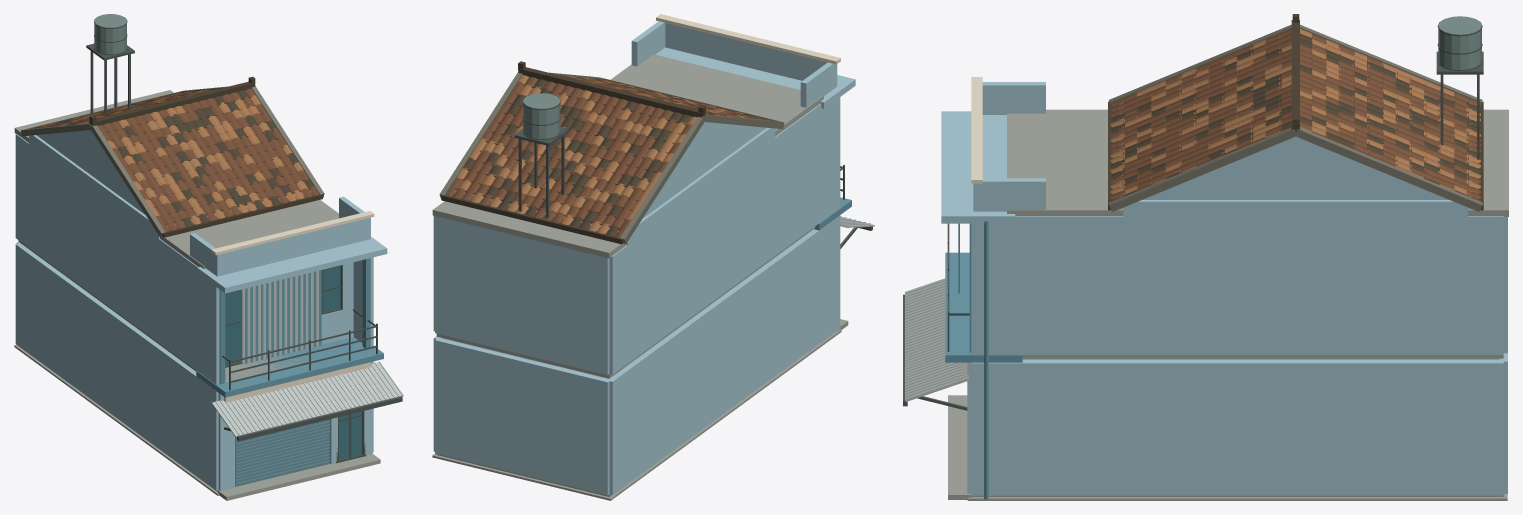
The model's file is urban-shophouse.glb.
3 renders of one model, left to right at view 1: azimuth 30°, elevation 25°; view 2: azimuth 150°, elevation 25°; view 3: azimuth 270°, elevation 25°, orthographic. The views are drawn at different scales.
Parts seen in each view (by area): view 1: walls__urban_blue, roof_tiles__old_tile.002, shop_awning__awning_sheet, roof_tiles__old_tile_light.002, roof_parapet__urban_blue, roof__concrete.001, roof_tiles__old_tile_dark.002, balcony__urban_blue_trim, striped_blind__awning_sheet, striped_blind__urban_blue_trim, balcony_canopy__urban_blue, shop_shutter__shutter_blue (+19 smaller); view 2: walls__urban_blue, roof_tiles__old_tile.002, roof__concrete.001, roof_tiles__old_tile_light.002, roof_parapet__urban_blue, roof_tiles__old_tile_dark.002, gable_walls__urban_blue, roof_trim__weathered_wood.002, balcony_canopy__urban_blue, foundation__concrete.001, roof__old_tile_dark.002, roof_ridge__old_tile_dark.002 (+5 smaller); view 3: walls__urban_blue, roof_tiles__old_tile.002, roof__concrete.001, roof_tiles__old_tile_light.002, gable_walls__urban_blue, roof_tiles__old_tile_dark.002, roof_trim__weathered_wood.002, balcony_canopy__urban_blue, shop_awning__awning_sheet, roof_parapet__urban_blue, roof__old_tile_dark.002, balcony__urban_blue_trim (+9 smaller).
Boxes of the visible parts, x1=… form: walls__urban_blue: x1=15, y1=134, x2=373, y2=491; roof_tiles__old_tile.002: x1=37, y1=88, x2=319, y2=231; shop_awning__awning_sheet: x1=211, y1=361, x2=403, y2=437; roof_tiles__old_tile_light.002: x1=41, y1=89, x2=309, y2=224; roof_parapet__urban_blue: x1=190, y1=196, x2=370, y2=276; roof__concrete.001: x1=14, y1=90, x2=338, y2=268; roof_tiles__old_tile_dark.002: x1=34, y1=90, x2=313, y2=226; balcony__urban_blue_trim: x1=196, y1=337, x2=383, y2=397; striped_blind__awning_sheet: x1=241, y1=270, x2=318, y2=364; striped_blind__urban_blue_trim: x1=245, y1=270, x2=321, y2=363; balcony_canopy__urban_blue: x1=197, y1=237, x2=387, y2=293; shop_shutter__shutter_blue: x1=235, y1=419, x2=329, y2=486; walls__urban_blue: x1=433, y1=97, x2=840, y2=495; roof_tiles__old_tile.002: x1=445, y1=75, x2=769, y2=237; roof__concrete.001: x1=432, y1=54, x2=823, y2=258; roof_tiles__old_tile_light.002: x1=456, y1=75, x2=747, y2=233; roof_parapet__urban_blue: x1=631, y1=21, x2=837, y2=107; roof_tiles__old_tile_dark.002: x1=462, y1=76, x2=751, y2=235; gable_walls__urban_blue: x1=643, y1=122, x2=766, y2=217; roof_trim__weathered_wood.002: x1=439, y1=72, x2=784, y2=243; balcony_canopy__urban_blue: x1=656, y1=47, x2=855, y2=108; foundation__concrete.001: x1=432, y1=329, x2=841, y2=500; roof__old_tile_dark.002: x1=453, y1=77, x2=691, y2=235; roof_ridge__old_tile_dark.002: x1=518, y1=61, x2=705, y2=117; walls__urban_blue: x1=967, y1=103, x2=1507, y2=495; roof_tiles__old_tile.002: x1=1110, y1=29, x2=1480, y2=201; roof__concrete.001: x1=1007, y1=109, x2=1508, y2=216; roof_tiles__old_tile_light.002: x1=1110, y1=29, x2=1480, y2=194; gable_walls__urban_blue: x1=1142, y1=136, x2=1448, y2=199; roof_tiles__old_tile_dark.002: x1=1110, y1=33, x2=1480, y2=195; roof_trim__weathered_wood.002: x1=1109, y1=24, x2=1482, y2=211; balcony_canopy__urban_blue: x1=941, y1=111, x2=1015, y2=223; shop_awning__awning_sheet: x1=905, y1=278, x2=968, y2=401; roof_parapet__urban_blue: x1=973, y1=82, x2=1045, y2=211; roof__old_tile_dark.002: x1=1114, y1=33, x2=1477, y2=199; balcony__urban_blue_trim: x1=945, y1=252, x2=1022, y2=362.
Size of the model in its own units: 5.08 by 9.24 by 11.95.
